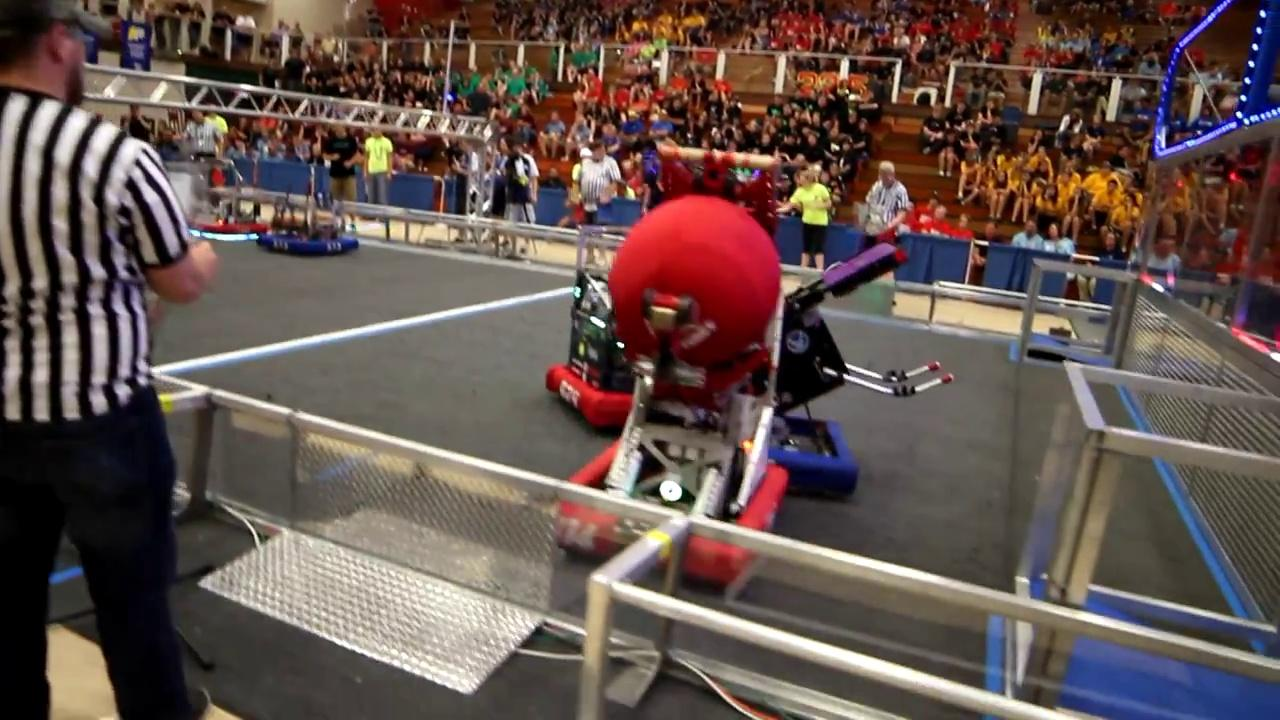robot: (550, 205, 793, 580), (770, 286, 891, 497), (542, 223, 645, 435), (259, 204, 363, 260), (183, 177, 268, 243)
